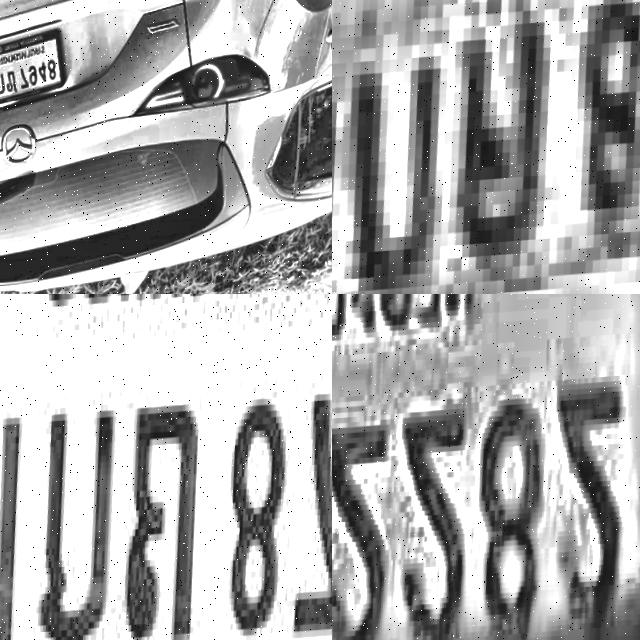license-plate: (0, 294, 332, 640), (332, 294, 640, 640), (332, 0, 640, 294), (0, 25, 81, 120)
